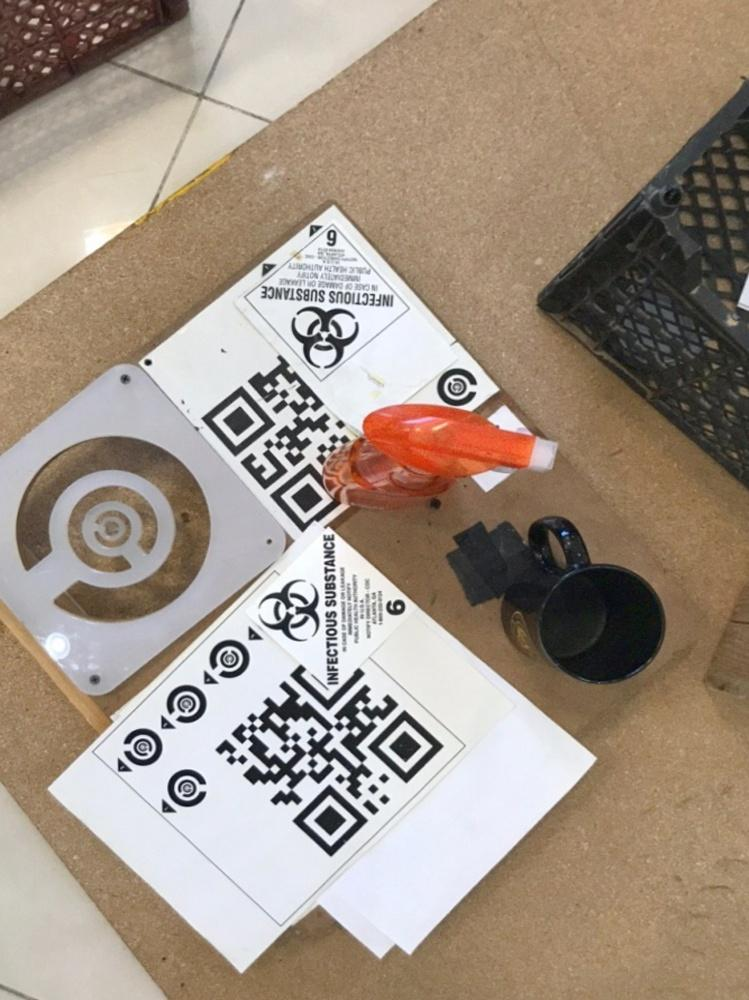infectious-substance: (225, 209, 433, 385), (244, 520, 425, 685)
